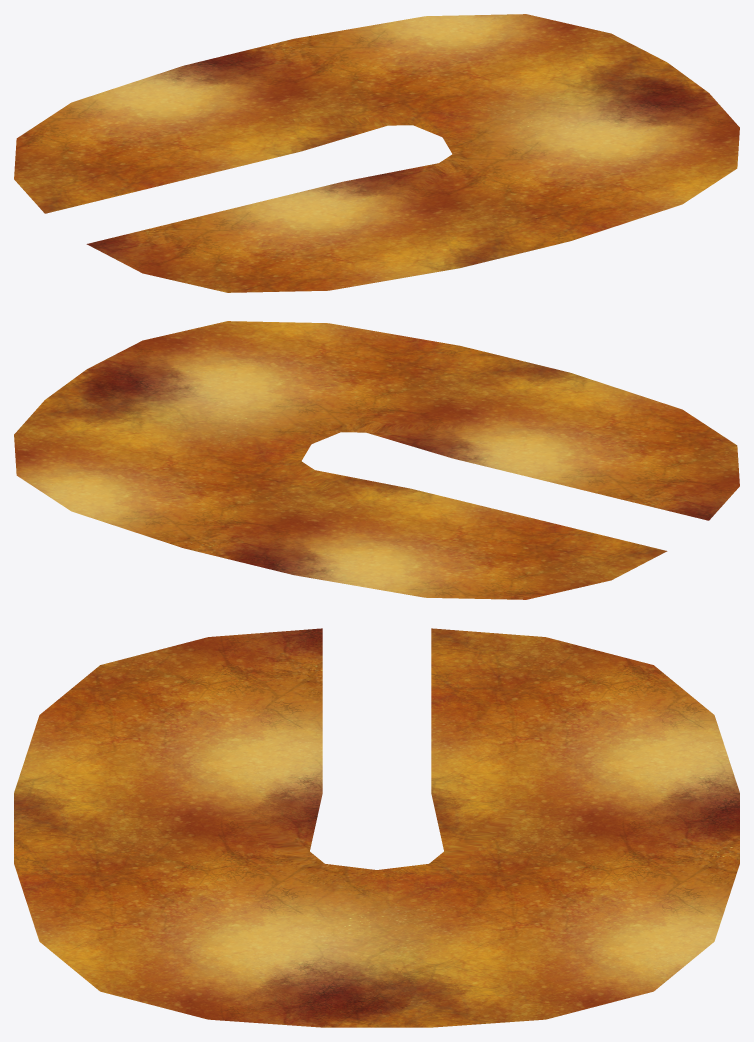
The model's file is MOD_L1_Room2_Lava.fbx.
The picture shows the model from 3 angles, top to bottom: view 1: azimuth 30°, elevation 25°; view 2: azimuth 150°, elevation 25°; view 3: azimuth 270°, elevation 25°; orthographic projection. The views are drawn at different scales.
Visible parts, largest first — view 1: Cube.002; view 2: Cube.002; view 3: Cube.002.
Part boxes in pixels (bbox=[...]): Cube.002: bbox=[14, 14, 739, 292]; Cube.002: bbox=[14, 321, 739, 599]; Cube.002: bbox=[14, 628, 739, 1027].
Size of the model in its own units: 358 by 0.2611 by 275.
